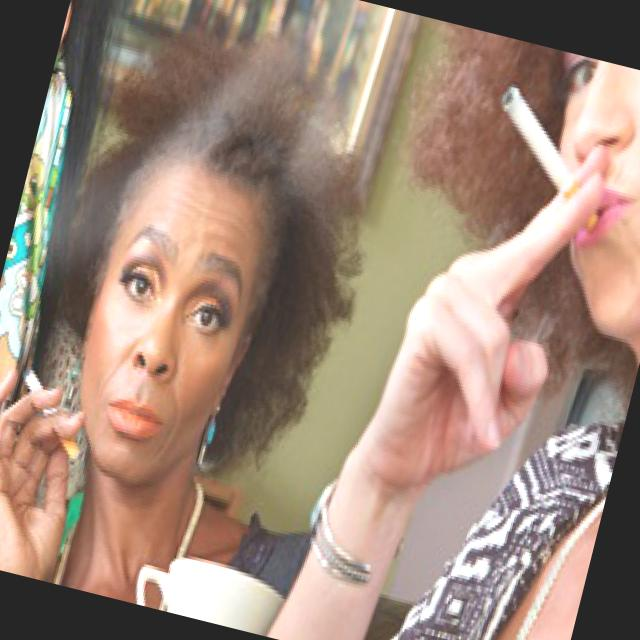smoke: (482, 78, 591, 203)
